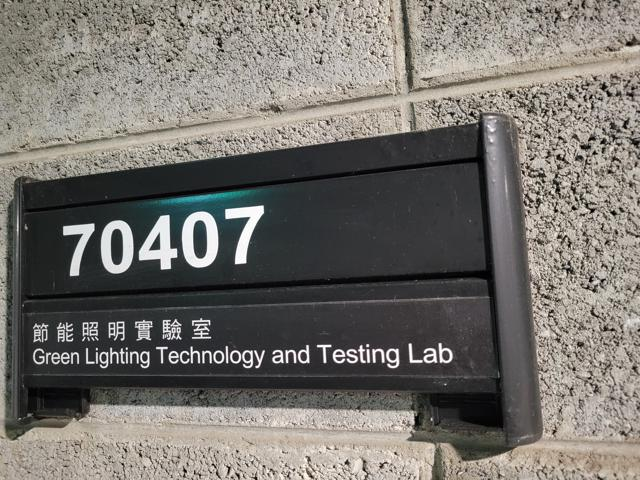doorplate: (7, 102, 552, 452)
